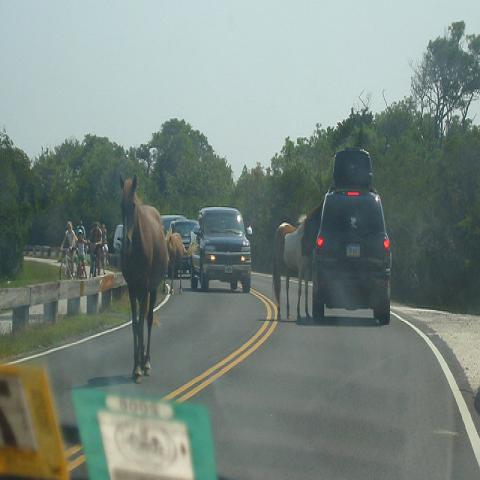car: (314, 184, 392, 329), (169, 220, 200, 251), (109, 224, 123, 267), (161, 213, 186, 236)
truck: (190, 206, 251, 292)
